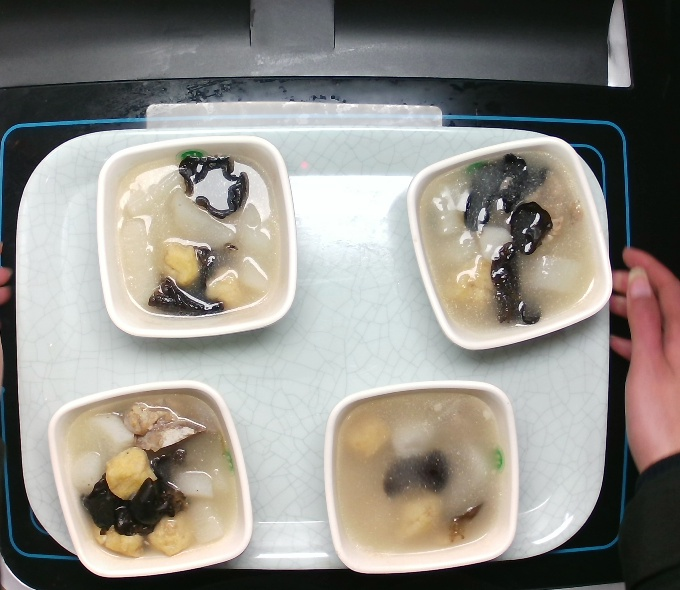wcq-ShanYaoTang: (416, 144, 606, 340), (61, 390, 241, 567), (332, 390, 512, 563), (115, 148, 288, 320)
